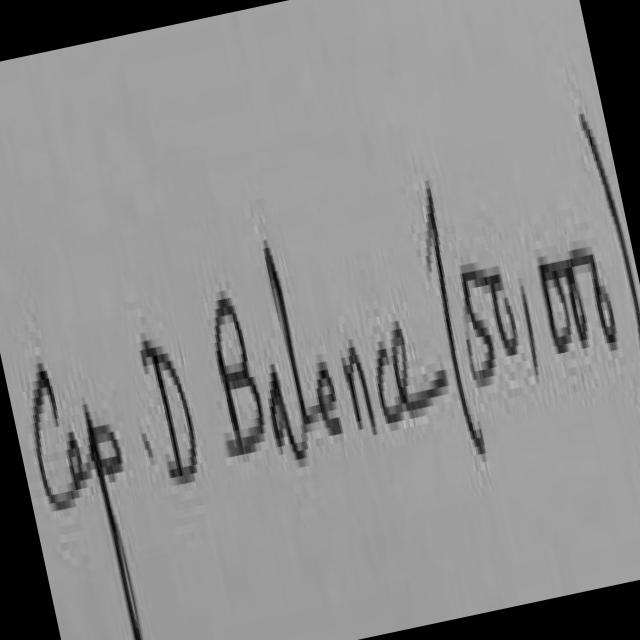0: (488, 276, 519, 362), (541, 265, 571, 347), (567, 259, 589, 359), (591, 254, 615, 345)
5: (463, 265, 496, 381)
B: (215, 297, 264, 455)
C: (36, 364, 73, 510)
D: (141, 341, 196, 483)
a: (270, 364, 306, 459), (67, 431, 95, 497)
c: (373, 341, 402, 428)
e: (390, 324, 447, 424), (317, 361, 342, 429)
l: (266, 239, 314, 448)
n: (337, 342, 379, 440)
p: (84, 404, 141, 640)
